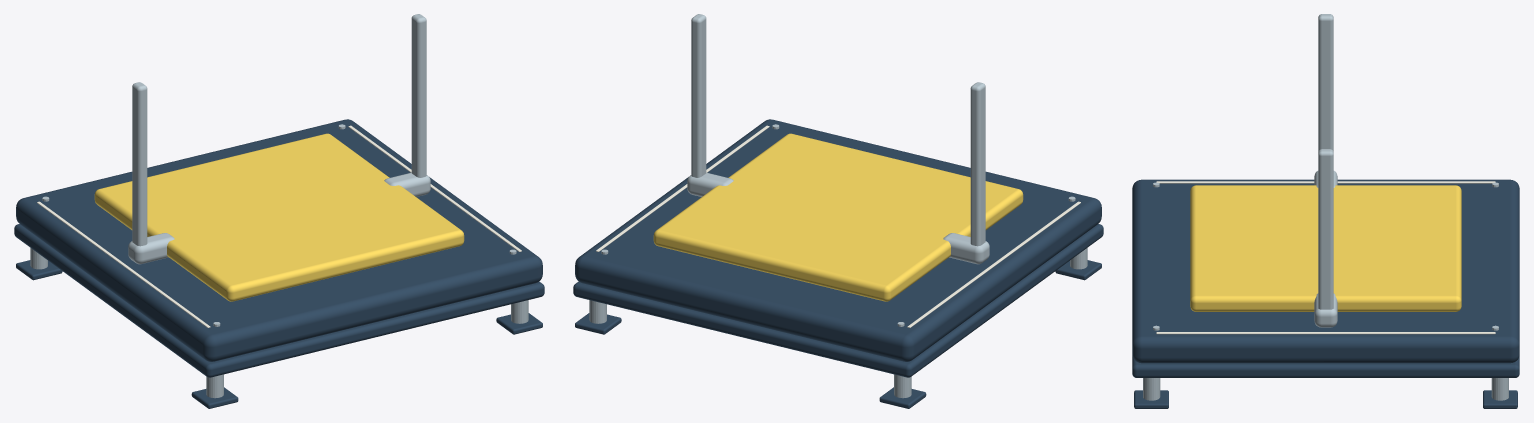
Rendered from party-obstacle-course-party-obstacle-course-moving-lif-a11e242e__28939.glb.
3 views of the same model, side by side, from view 1: azimuth 30°, elevation 25°; view 2: azimuth 150°, elevation 25°; view 3: azimuth 270°, elevation 25° (orthographic).
Visible parts, largest first — view 1: party-obstacle-course-moving-lift, lift/yellow, lift/steel (×2); view 2: party-obstacle-course-moving-lift, lift/yellow, lift/steel (×2); view 3: party-obstacle-course-moving-lift, lift/yellow, lift/steel.
Boxes of the visible parts, bbox=[...] form: party-obstacle-course-moving-lift: bbox=[14, 14, 544, 408]; lift/yellow: bbox=[94, 133, 464, 301]; lift/steel (×2): bbox=[128, 172, 430, 264]; party-obstacle-course-moving-lift: bbox=[573, 14, 1103, 408]; lift/yellow: bbox=[653, 133, 1023, 301]; lift/steel (×2): bbox=[687, 172, 989, 264]; party-obstacle-course-moving-lift: bbox=[1132, 14, 1519, 408]; lift/yellow: bbox=[1190, 185, 1461, 311]; lift/steel: bbox=[1314, 293, 1337, 327].
Bounding box in the file's own units: 4 × 2.8 × 4.
